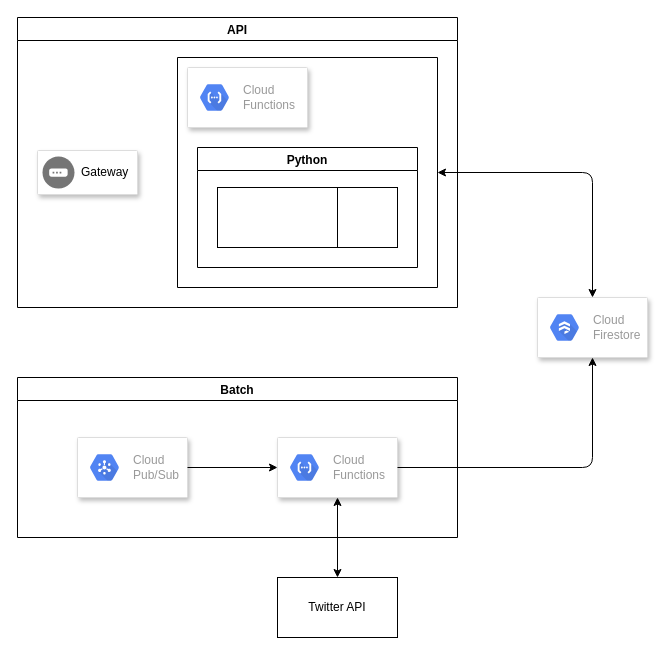
Image size: 671x655. Some labels were removed from this diagram. The centre of each missing label's shape, as x and y in pixels:
Agraffi: point 367,217
FastAPI: point 277,217
